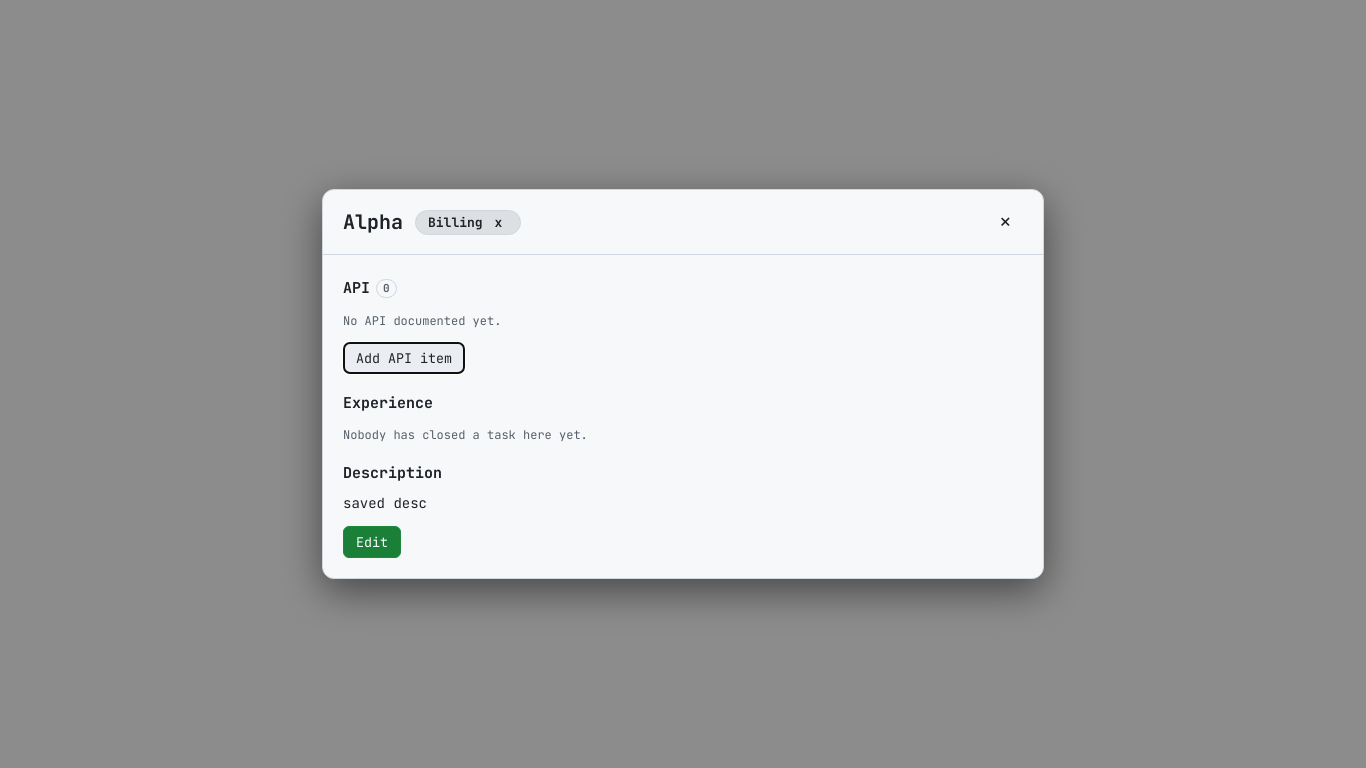
group chip › ignores unsaved form edits and shows a failure inline
The width and height of the screenshot is (1366, 768).
Click the button named "Remove from group" at point(498, 222), box [489,216,508,229]
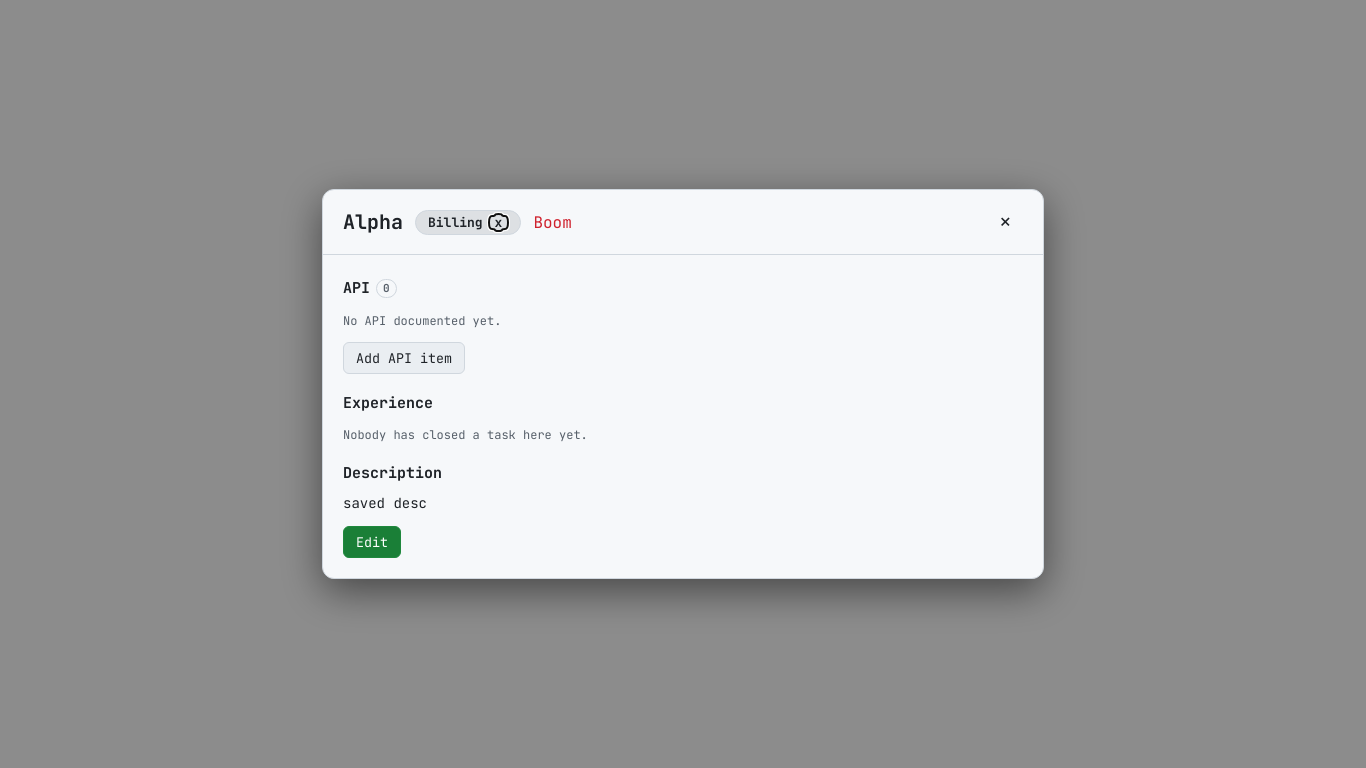
Expected: the message reads "Boom", [533,212,572,233]
